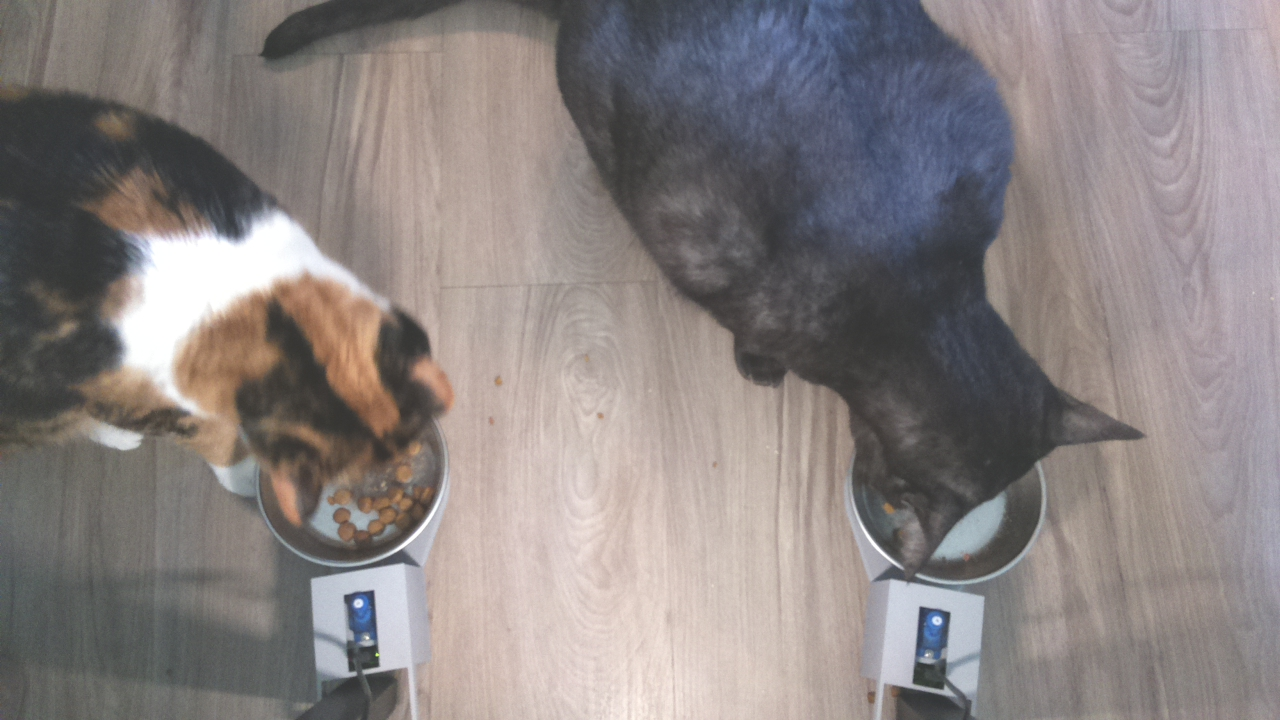bella_eating: (189, 233, 462, 562)
saki_eating: (816, 350, 1166, 590)
